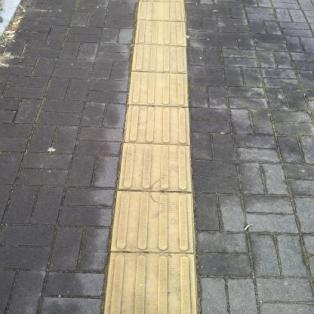Podoctatil: (88, 0, 210, 313)
